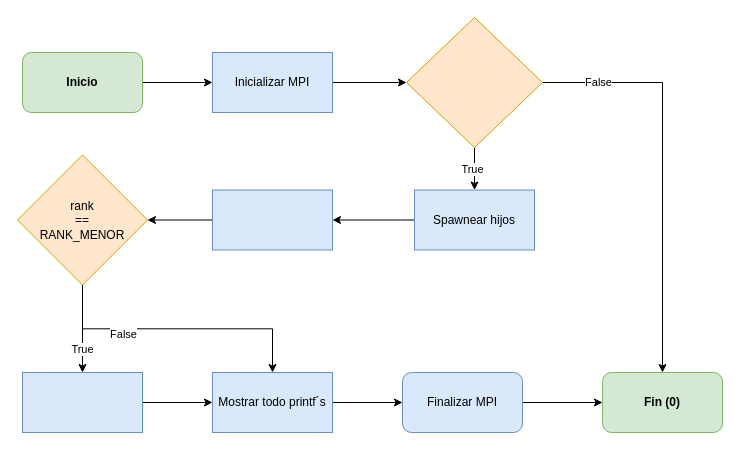
This 740x450 diagram has some shape labels left out. The centre of each missing label's shape, as x and y in pixels:
"Enviar mensaje a hermanos" belongs at point 82,402.
"Enviarles un mensaje" belongs at point 272,219.
"rank == RANK_MASTER" belongs at point 474,82.
